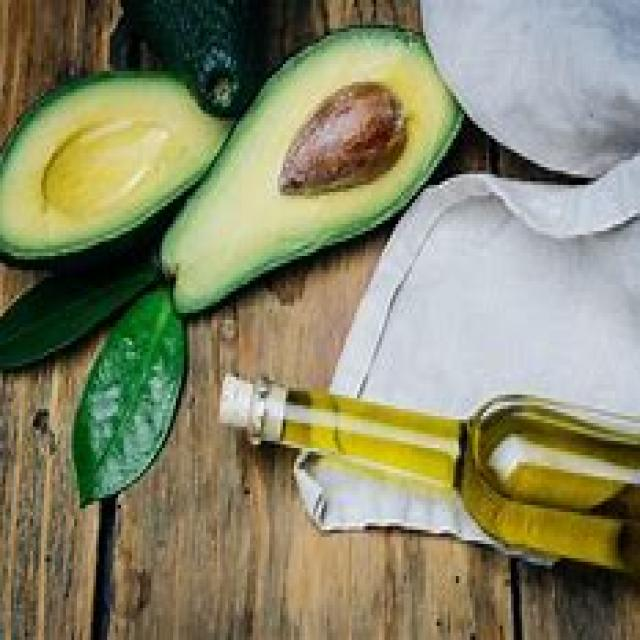Avocado: (149, 29, 487, 325), (0, 71, 228, 277), (112, 5, 260, 94)
